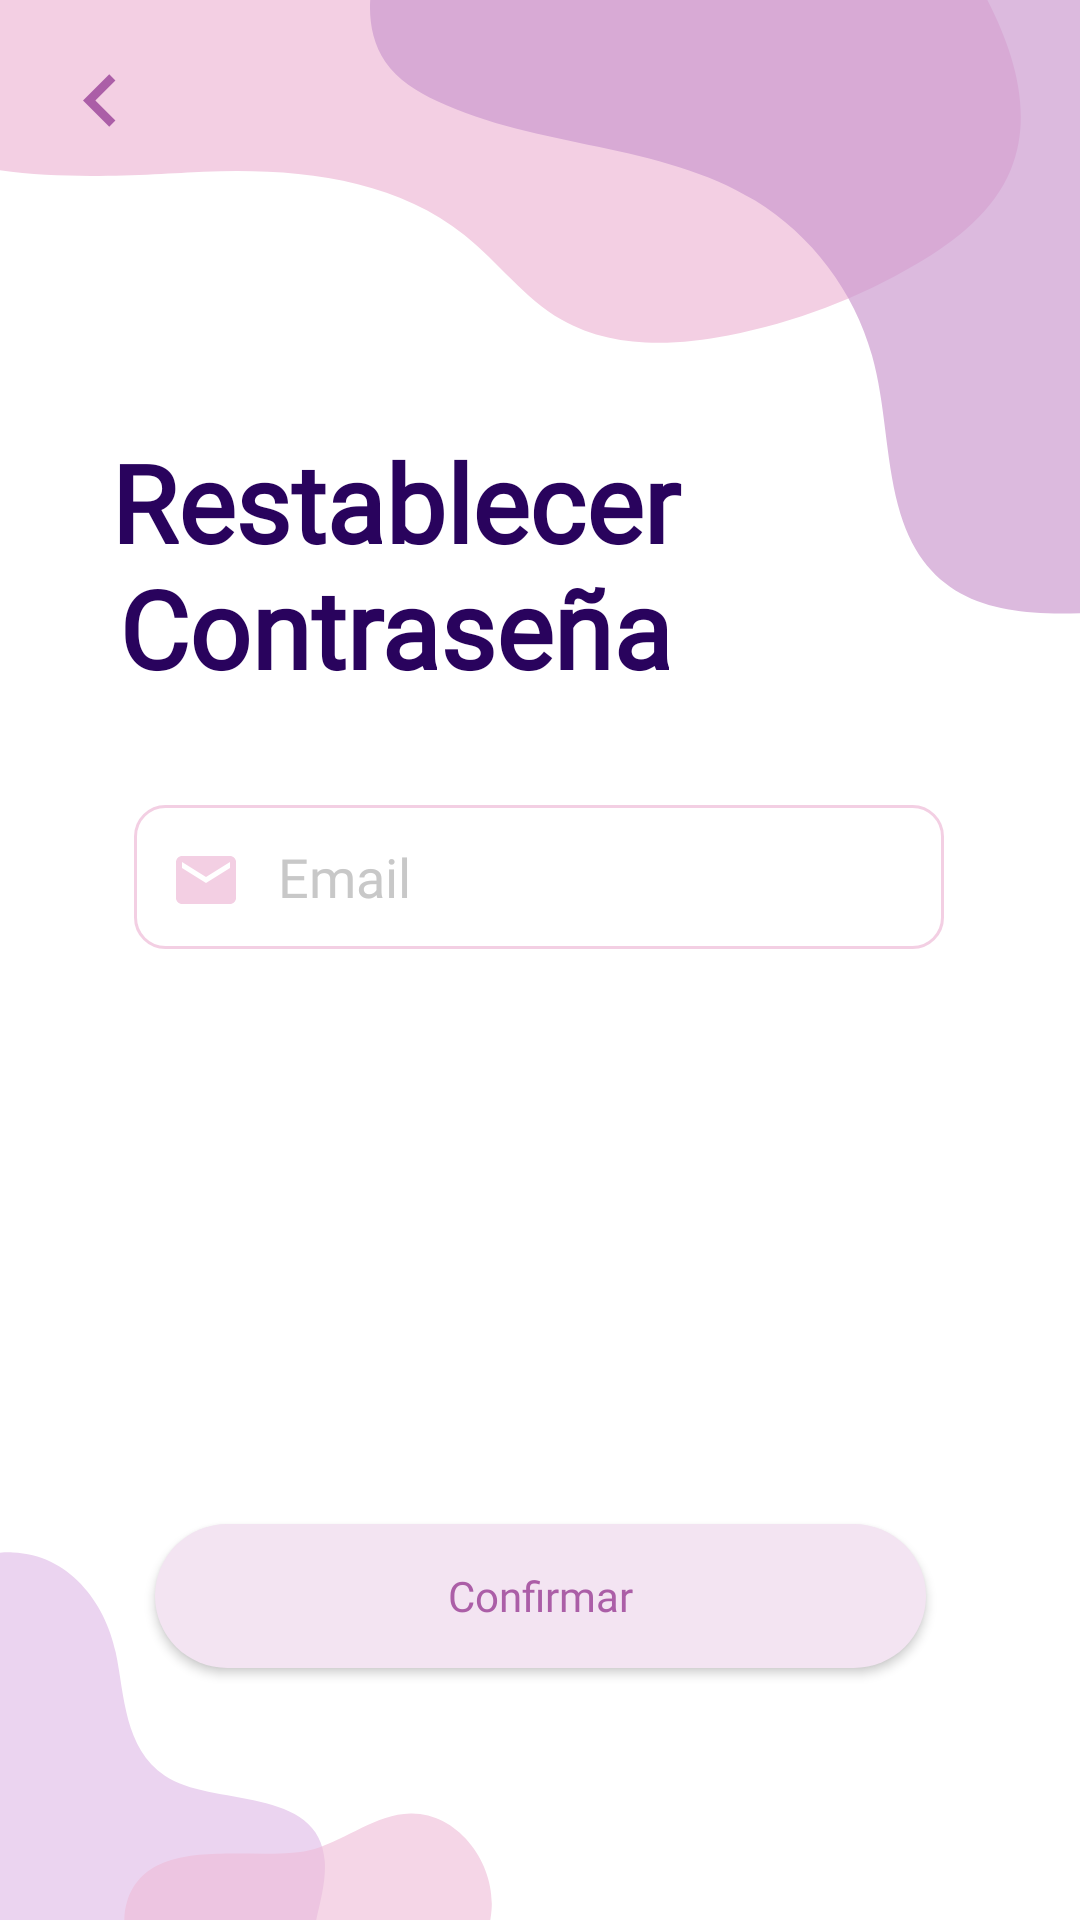

Locate icon controls on the screen. Image size 1080 × 1920, boxes as (x1, y1, x2, y2).
chevron left: (83, 74, 115, 127)
